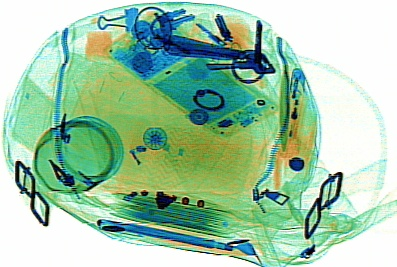lighter: (277, 66, 305, 158)
